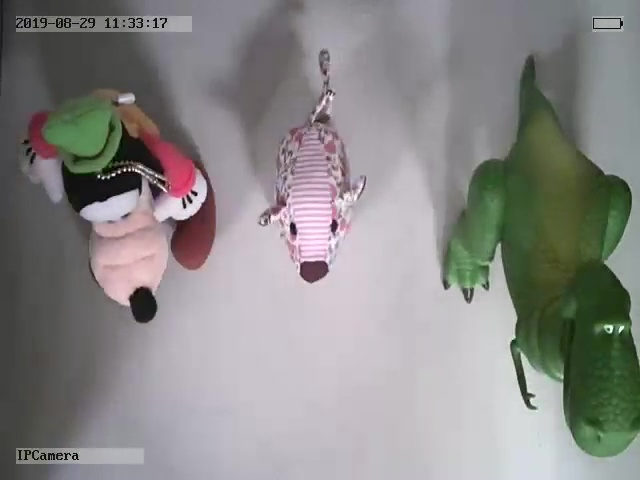goofy: (20, 88, 217, 325)
pig: (257, 47, 367, 284)
rex: (441, 55, 640, 458)
